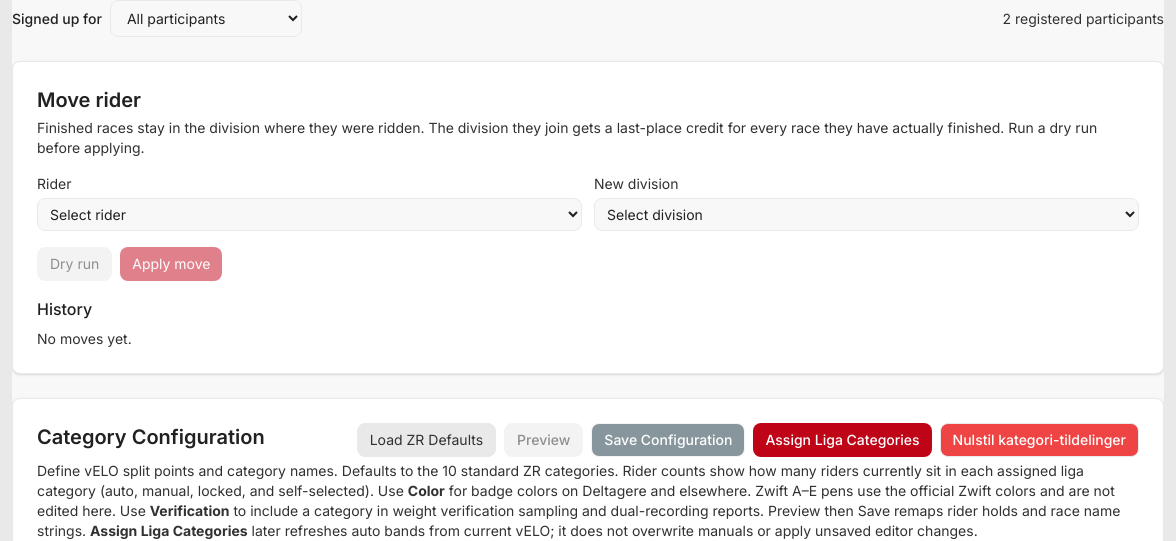
CategoryManager race signup filter › defaults to all participants and can filter to a race
The width and height of the screenshot is (1176, 541).
Expected: the text "2 registered participants" is shown, [1002,8,1164,28]
Select "Opening Race" in the dropdown labelled "Signed up for": point(206, 18) [110,0,302,37]
(page scrolled)
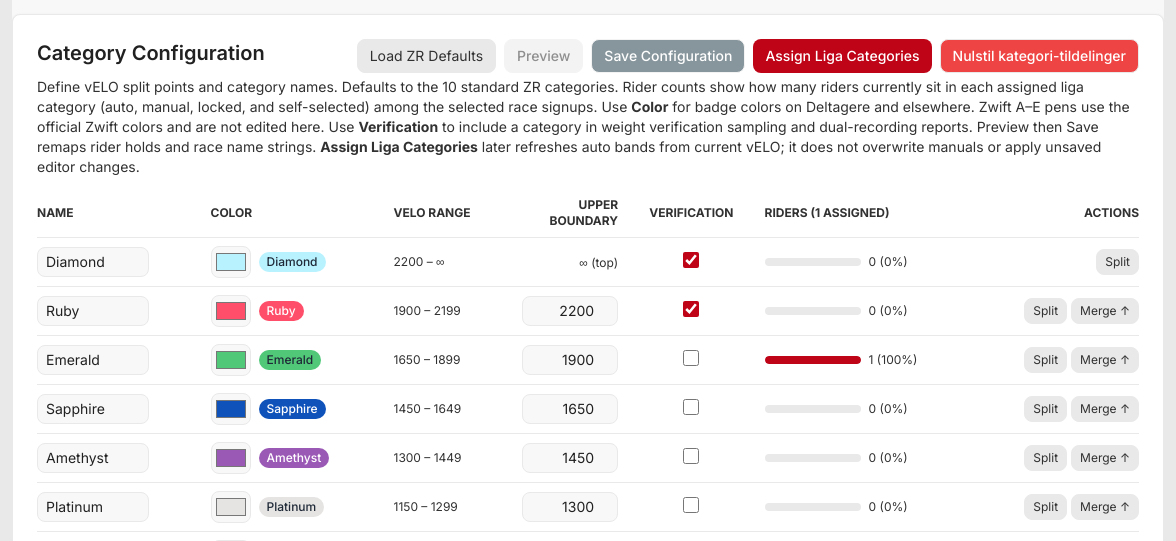
Result: the column heading "Riders (1 assigned)" is shown at [765,197,978,238]
Result: the row named "Name for category 3" shows "1 (100%)" at [37,336,1139,384]
